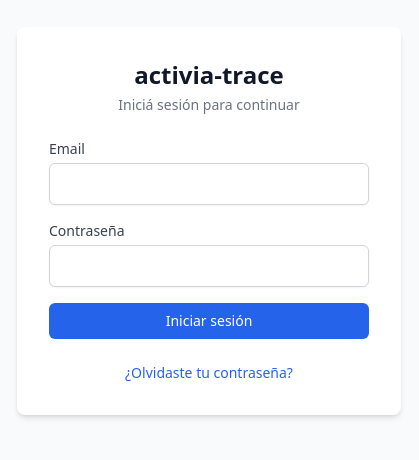
Scenario: LoginPage › muestra errores de validación al enviar vacío
Click the button "Iniciar sesión" at (209,321), box x1=49 y1=303 x2=369 y2=339
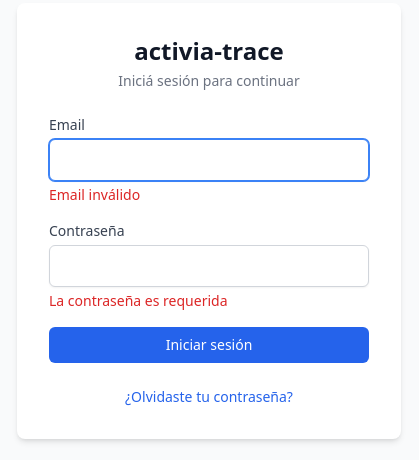
Check: the text "Email inválido" is shown, box x1=49 y1=185 x2=140 y2=204
Check: the text "La contraseña es requerida" is shown, box x1=49 y1=291 x2=228 y2=310
